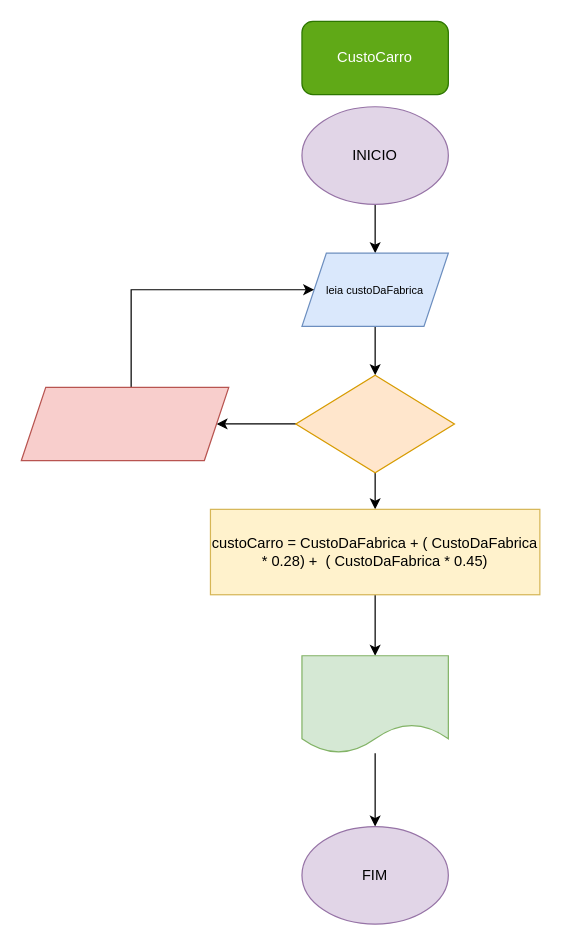
Some shapes in this 561 by 946 pixel diagram are drawn without their labels. The shapes that lost their labels are listed below. From the top down, each one's centre as x and y in pixels, then its label:
point 124,423: Retorne mensagem de erro
point 374,423: If not zero
point 374,704: Retorne Resultado
